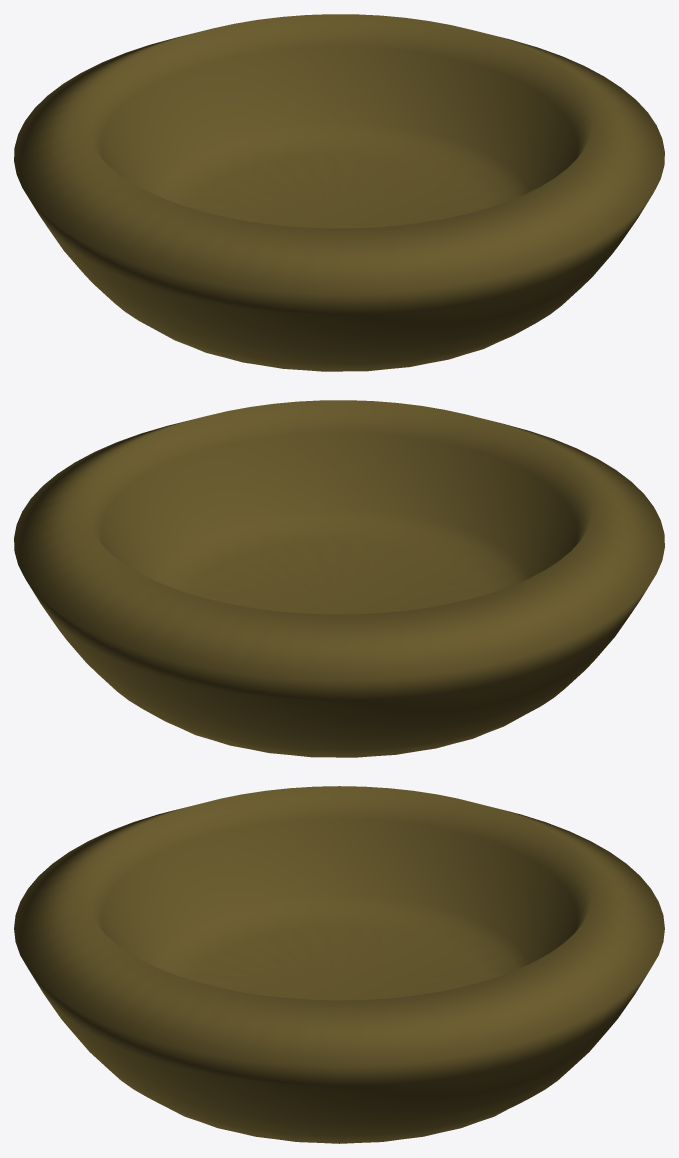
File: dish.fbx
3 views of the same model, one above another, from view 1: azimuth 30°, elevation 25°; view 2: azimuth 150°, elevation 25°; view 3: azimuth 270°, elevation 25° (orthographic).
Visible parts, largest first — view 1: Bowl; view 2: Bowl; view 3: Bowl.
Boxes of the visible parts, x1,y1,x2,y2 form: Bowl: [14, 14, 664, 371]; Bowl: [14, 400, 664, 757]; Bowl: [14, 786, 664, 1143].
Bounding box in the file's own units: 39.77 × 12.05 × 39.77.
